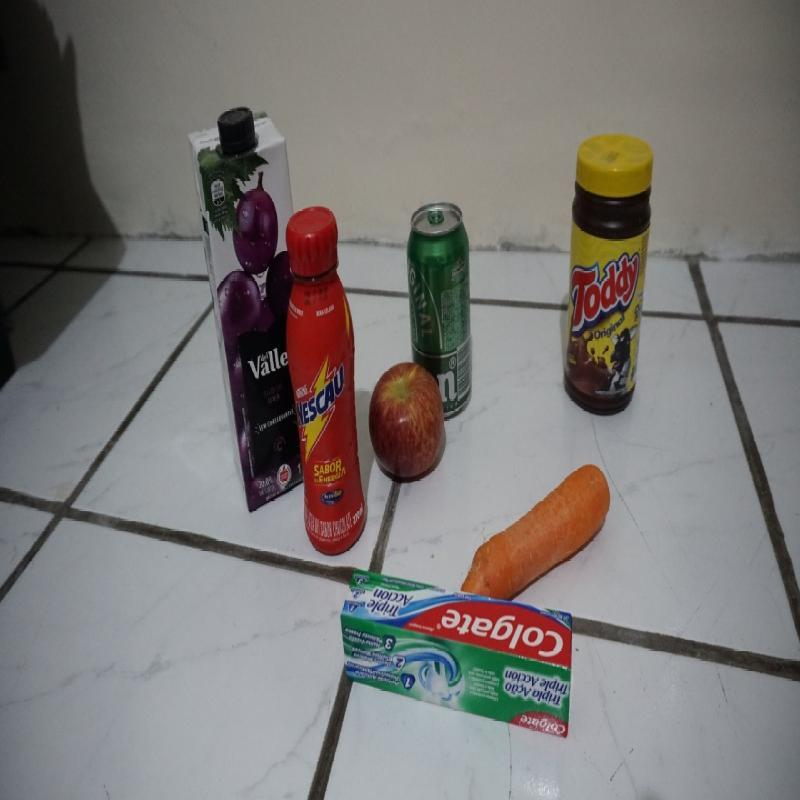Apple: (368, 360, 445, 479)
Beer can: (406, 199, 474, 421)
Carrot: (459, 464, 612, 593)
Chocolate Milk: (283, 208, 366, 557)
Chocolate Powder: (564, 134, 655, 416)
Toothpaste: (339, 569, 573, 742)
